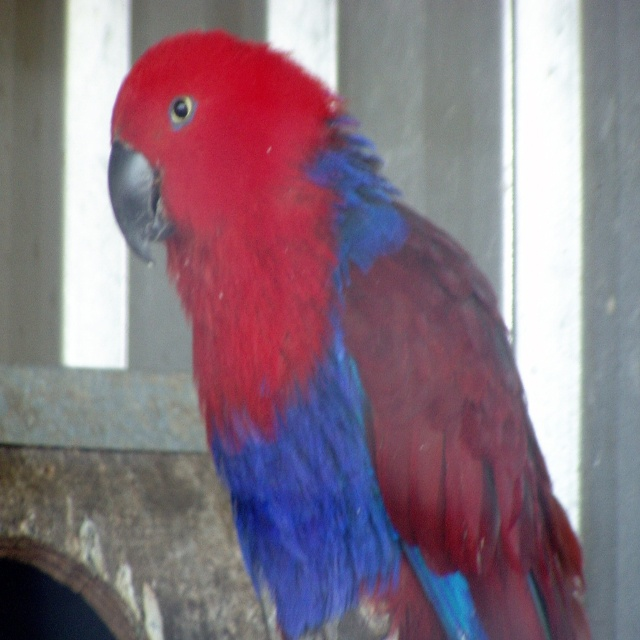Parrot: (107, 27, 592, 640)
